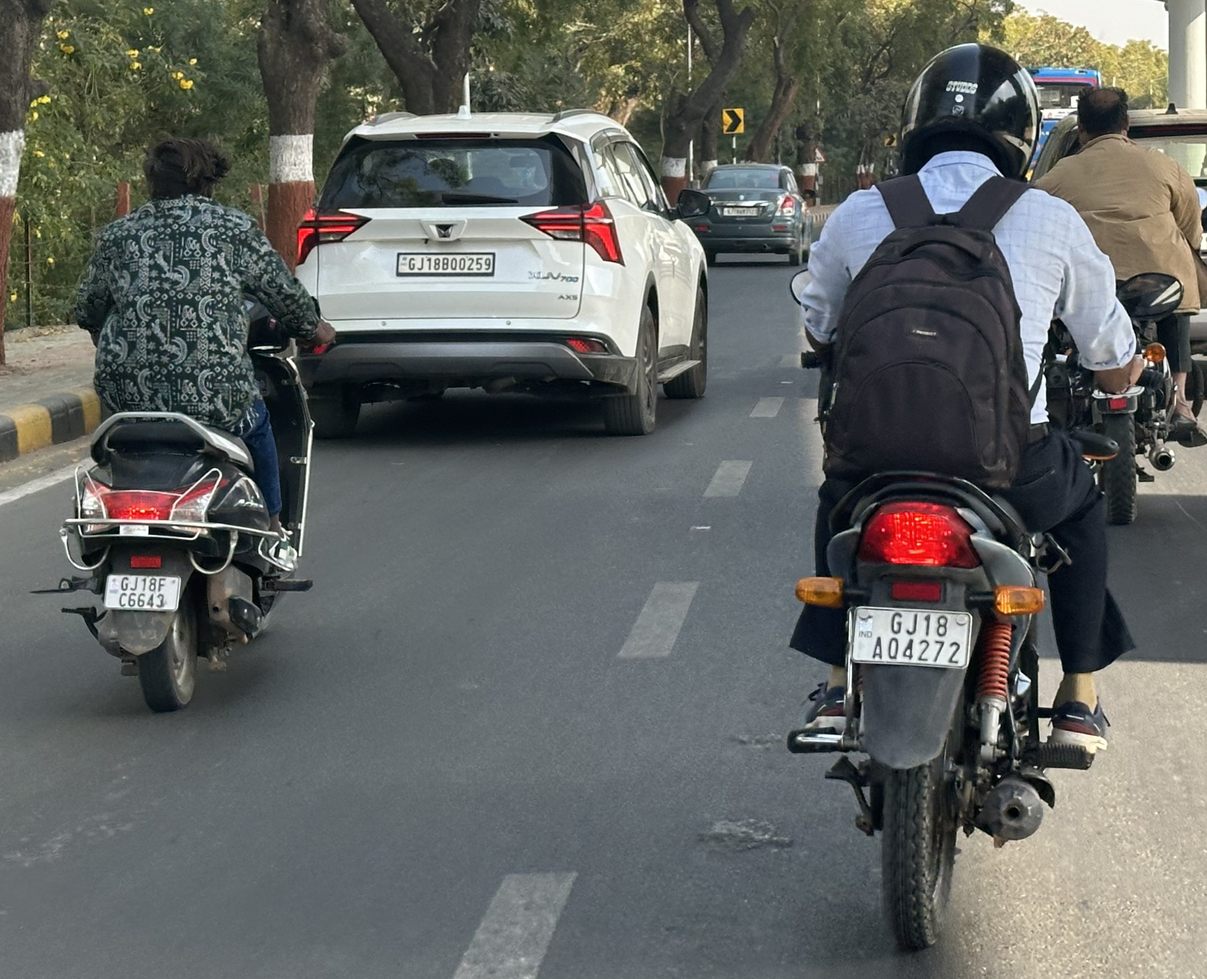BikeWithRider: (772, 31, 1147, 966), (24, 126, 345, 722), (1023, 76, 1206, 533)
Helmet: (884, 32, 1052, 186)
NoHelmet: (127, 126, 243, 217), (1065, 80, 1140, 151)
